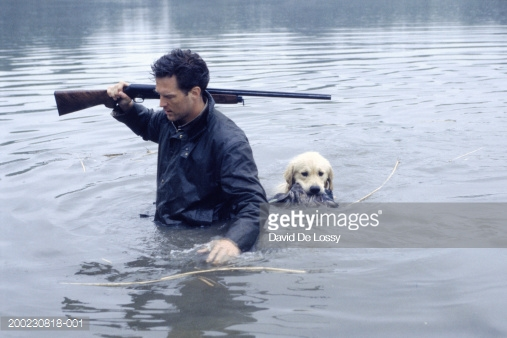Rifle: (51, 78, 335, 129)
